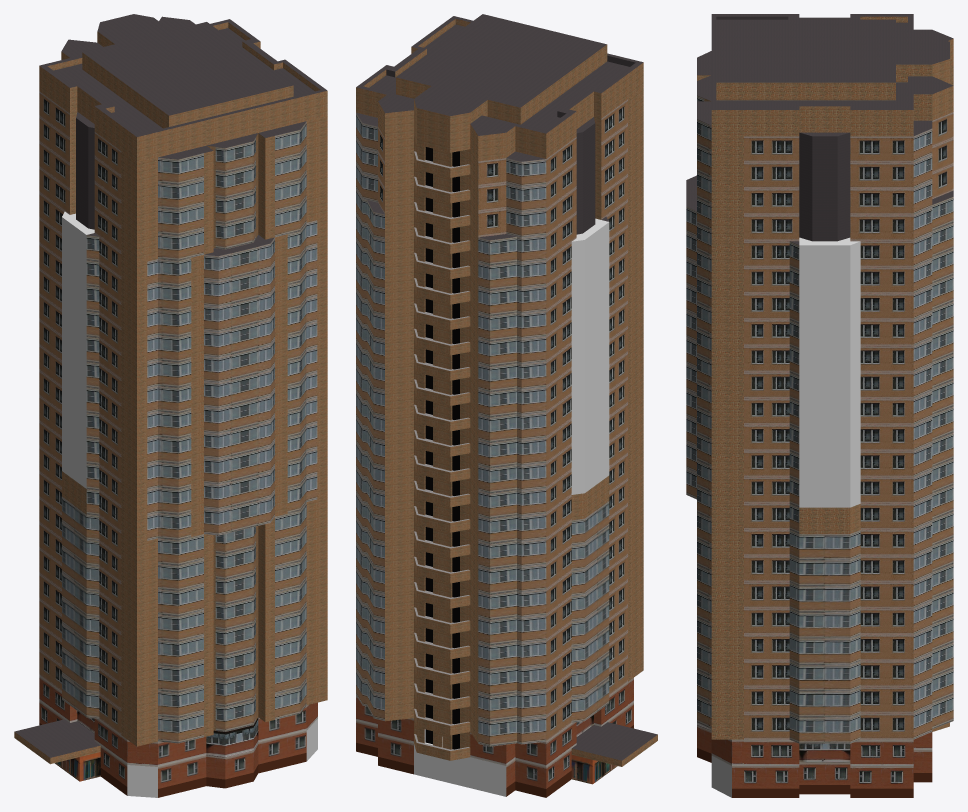
Rendered from p44tower.fbx.
The picture shows the model from 3 angles, left to right: view 1: azimuth 30°, elevation 25°; view 2: azimuth 150°, elevation 25°; view 3: azimuth 270°, elevation 25°; orthographic projection. The views are drawn at different scales.
Parts seen in each view (by area): view 1: G-Object.034; view 2: G-Object.034; view 3: G-Object.034.
Part boxes in pixels (bbox=[...]): G-Object.034: bbox=[14, 14, 327, 797]; G-Object.034: bbox=[356, 14, 657, 797]; G-Object.034: bbox=[686, 14, 953, 797].
Size of the model in its own units: 3232 by 8394 by 2908.
18 materials, 9 textured.
